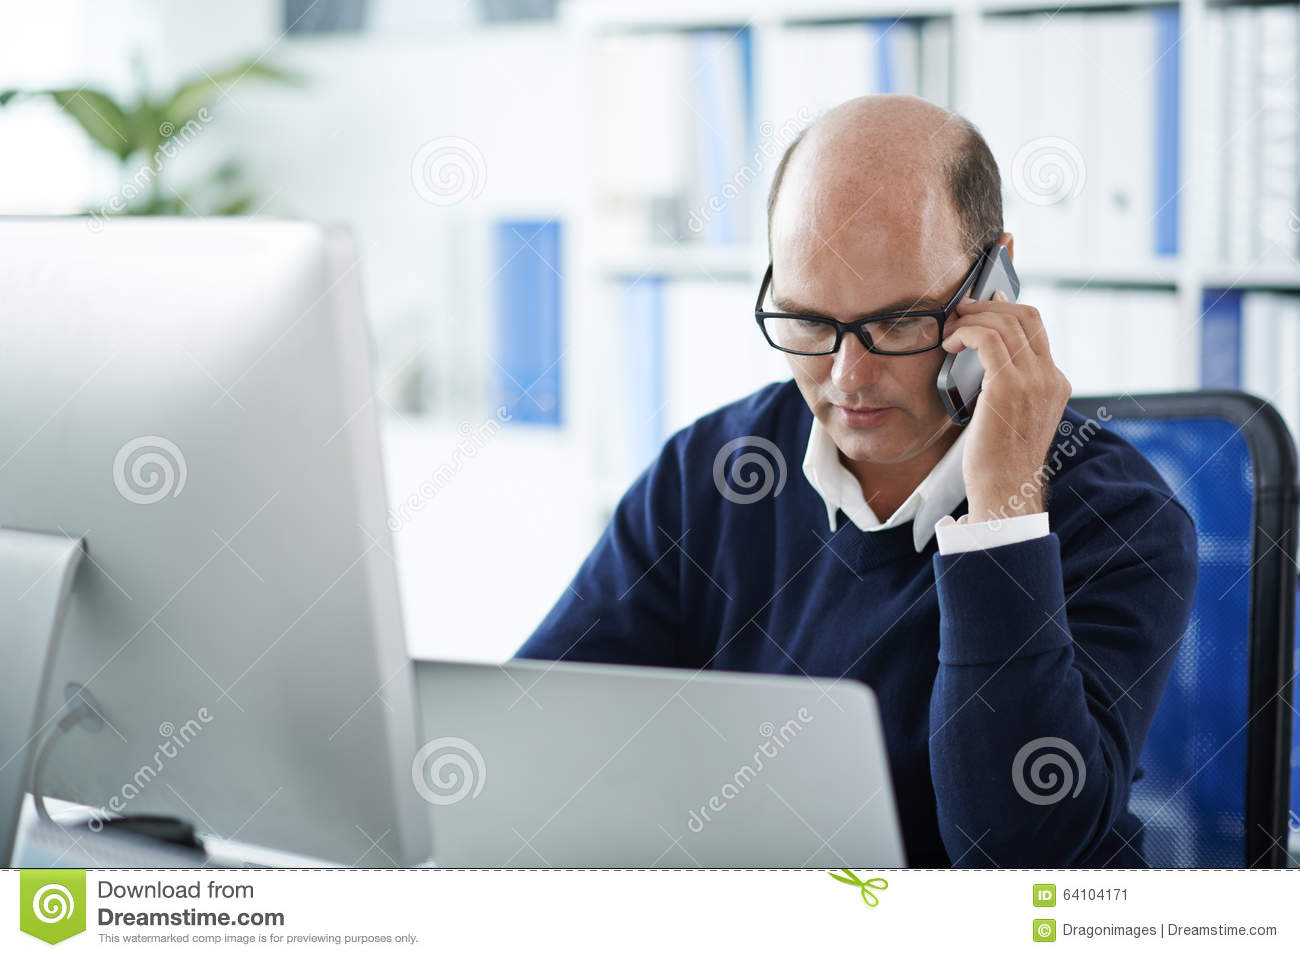phone: (930, 247, 1021, 431)
talk: (773, 246, 1074, 531)
